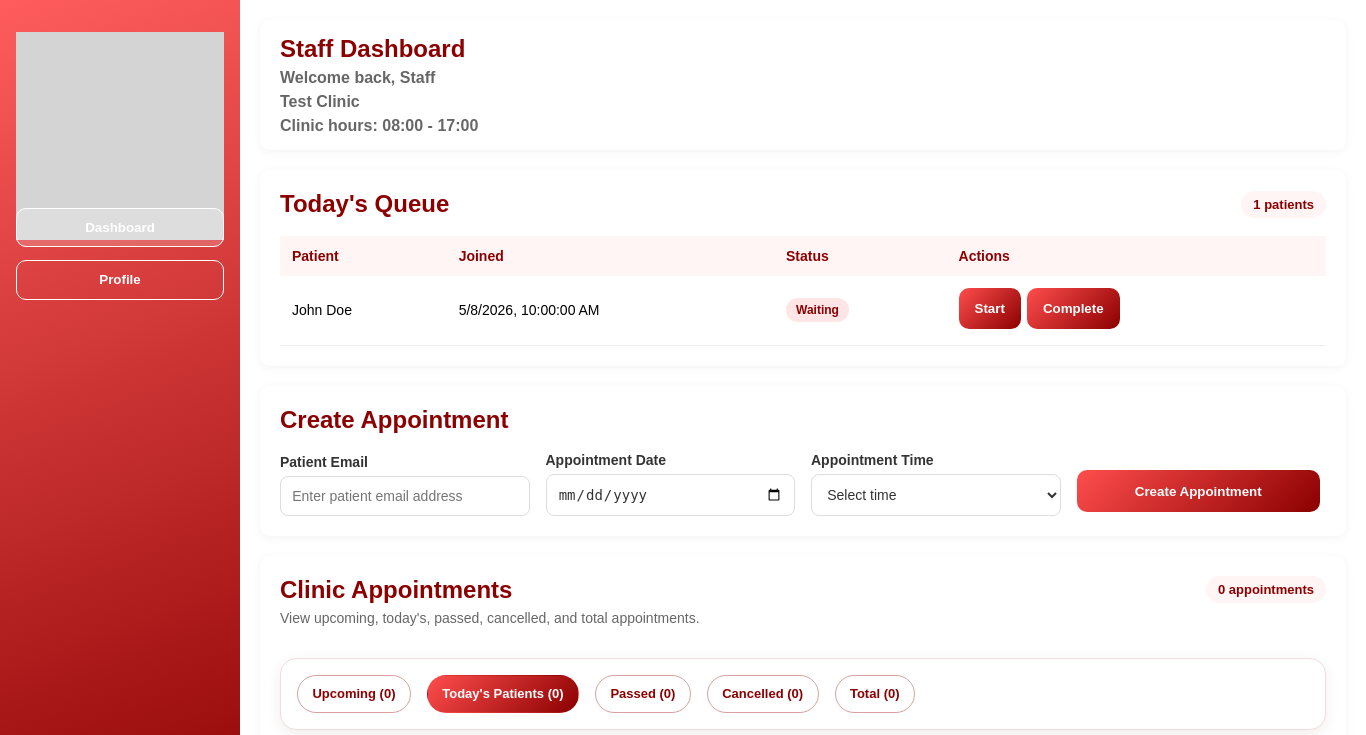
Test: StaffDashboard › shows success message after queue update
The image size is (1366, 735).
Expected: the text "John Doe" is shown, [280,276,447,345]
Click the button "Start": (990, 308) [958,288,1021,329]
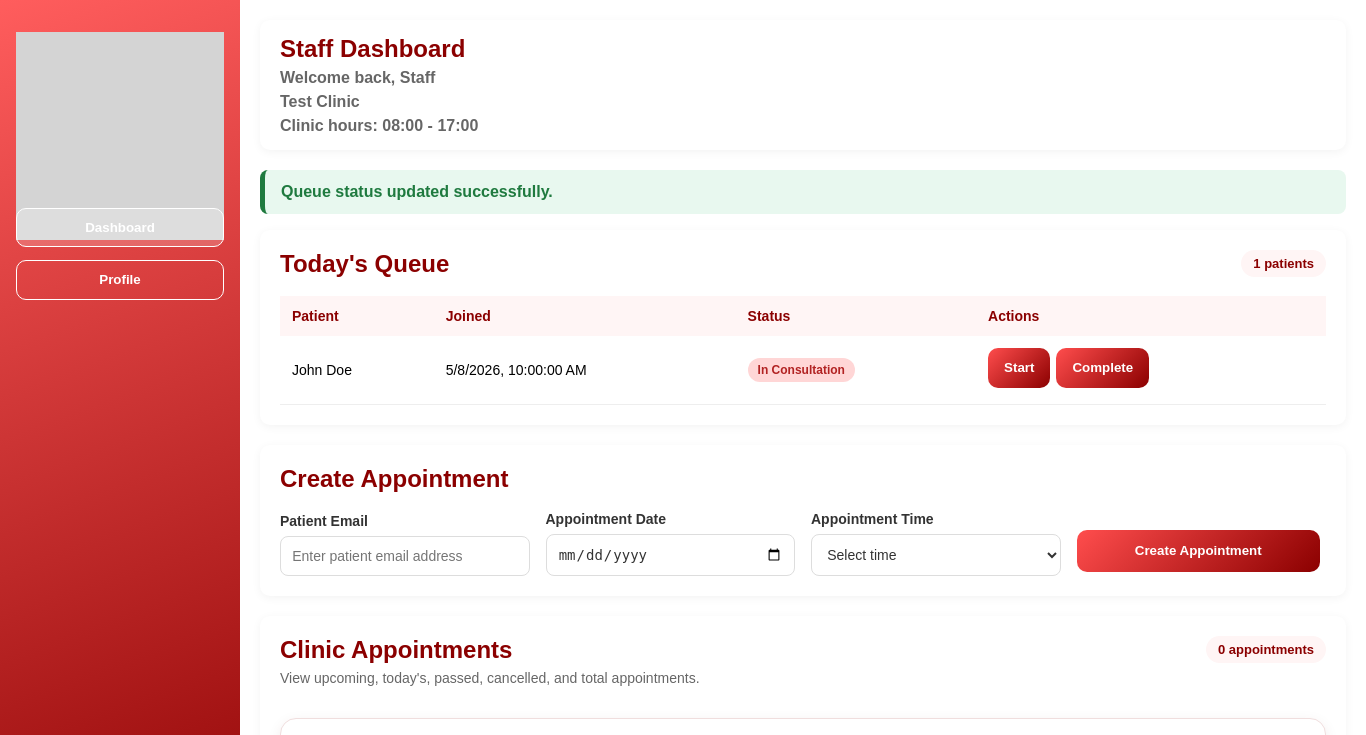
Now the text "Queue status updated successfully." is shown, box [260,170,1346,214]
